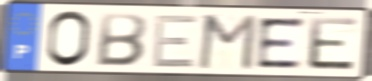B: (93, 12, 149, 69)
E: (307, 15, 360, 73), (150, 13, 200, 70), (256, 15, 307, 70)
M: (195, 13, 259, 73)
O: (44, 9, 93, 70)
